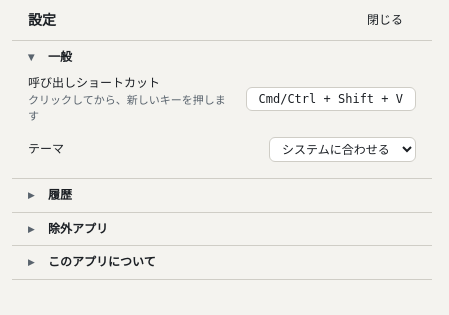
Test: SettingsWindow › ショートカット › 競合で失敗したとき、メッセージを表示し、元の表示を維持する
Click the button with aria-label "呼び出しショートカット": (331, 99) [246,87,416,111]
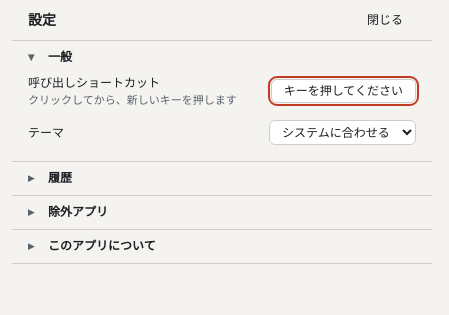
Type keys "{Control>}{Alt>}k{/Alt}{/Control}"
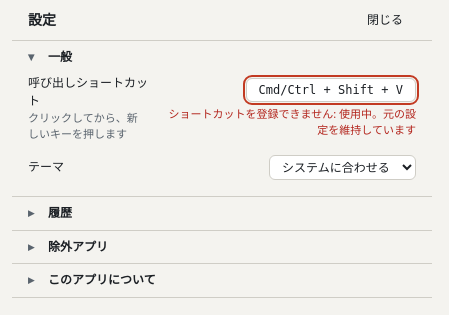
Expected: the message shows "登録できません", [168,106,416,137]
Expected: the message shows "元の設定を維持", [168,106,416,137]
Expected: the button with aria-label "呼び出しショートカット" reads "Cmd/Ctrl + Shift + V", [246,78,416,102]
